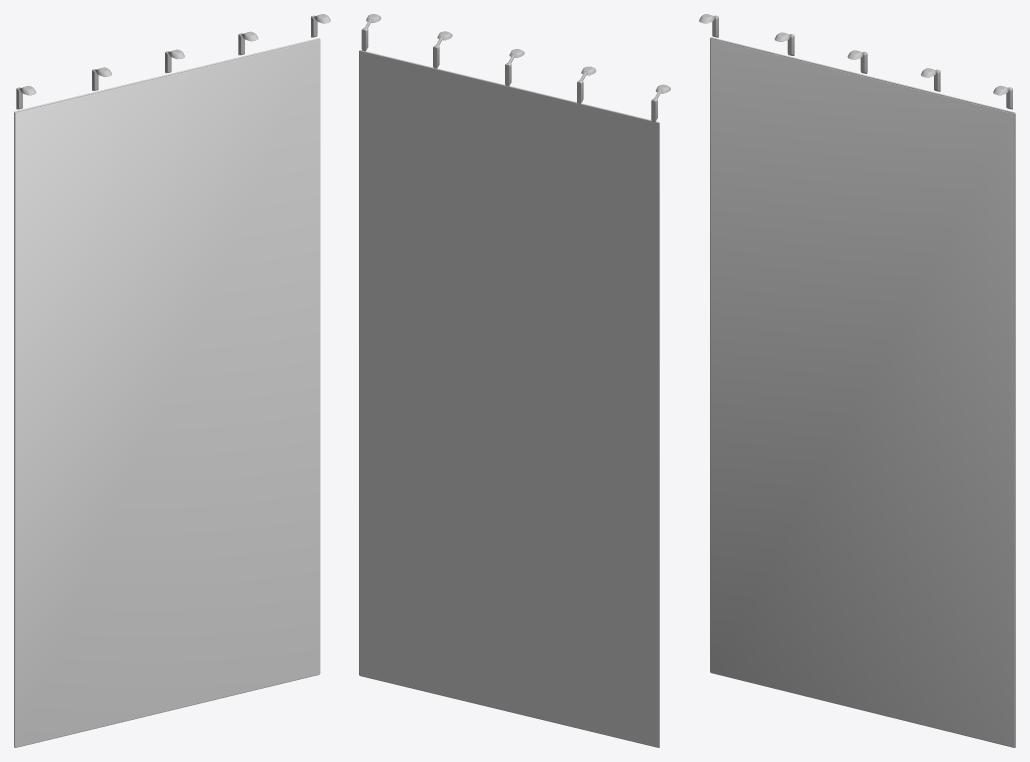
Rendered from Modern_City_Skraper_Billboard.fbx.
3 views of the same model, side by side, from view 1: azimuth 30°, elevation 25°; view 2: azimuth 150°, elevation 25°; view 3: azimuth 330°, elevation 25° (orthographic).
Parts seen in each view (by area): view 1: Modern_City_Skraper_Billboard_Ad001, Modern_City_Skraper_Billboard_AdBacker, Modern_City_Skraper_Billboard_LightHolder; view 2: Modern_City_Skraper_Billboard_AdBacker, Modern_City_Skraper_Billboard_LightHolder; view 3: Modern_City_Skraper_Billboard_Ad001, Modern_City_Skraper_Billboard_AdBacker, Modern_City_Skraper_Billboard_LightHolder.
Part boxes in pixels (bbox=[...]): Modern_City_Skraper_Billboard_Ad001: bbox=[15, 39, 319, 746]; Modern_City_Skraper_Billboard_AdBacker: bbox=[14, 38, 320, 747]; Modern_City_Skraper_Billboard_LightHolder: bbox=[16, 14, 330, 109]; Modern_City_Skraper_Billboard_AdBacker: bbox=[359, 50, 659, 747]; Modern_City_Skraper_Billboard_LightHolder: bbox=[361, 14, 670, 121]; Modern_City_Skraper_Billboard_Ad001: bbox=[710, 39, 1014, 747]; Modern_City_Skraper_Billboard_AdBacker: bbox=[710, 37, 1015, 747]; Modern_City_Skraper_Billboard_LightHolder: bbox=[699, 14, 1012, 109].
Size of the model in its own units: 30.27 by 62.77 by 2.49.
Materials: 4 (2 with a texture image).
